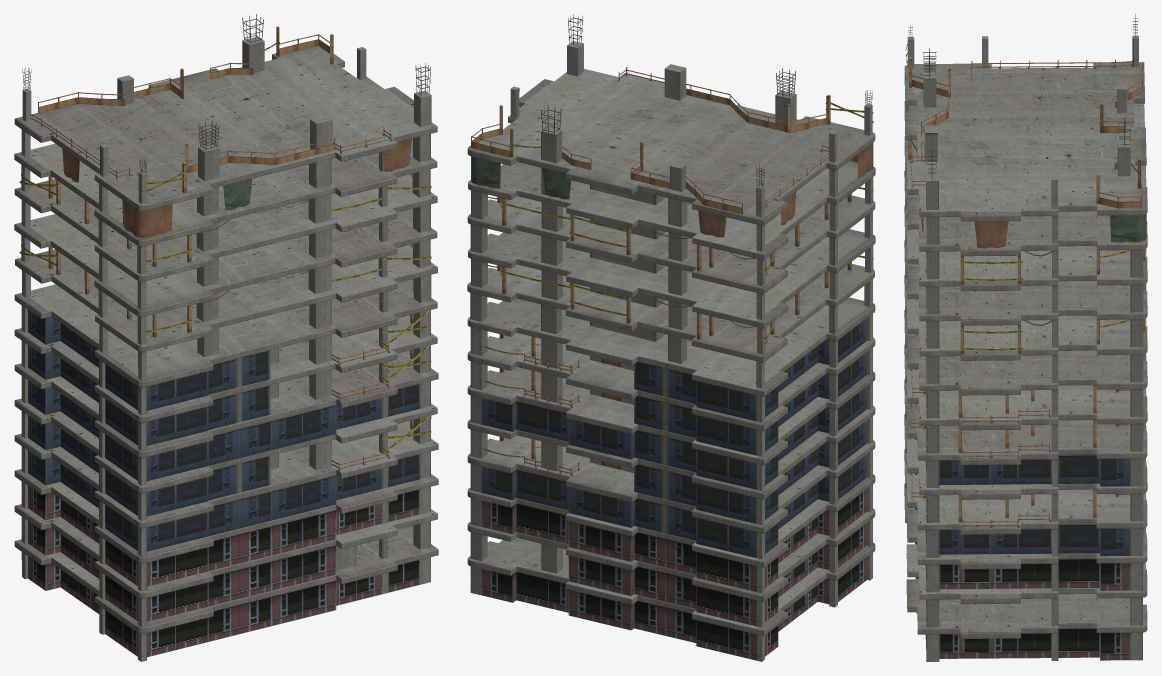
Rendered from large_build.fbx.
The picture shows the model from 3 angles, left to right: view 1: azimuth 30°, elevation 25°; view 2: azimuth 150°, elevation 25°; view 3: azimuth 270°, elevation 25°; orthographic projection. The views are drawn at different scales.
Visible parts, largest first — view 1: Large; view 2: Large; view 3: Large.
Part boxes in pixels (x1,y1,x2,y2): Large: [14, 14, 438, 661]; Large: [467, 14, 875, 661]; Large: [904, 14, 1147, 661].
Bounding box in the file's own units: 1289 × 1988 × 861.
